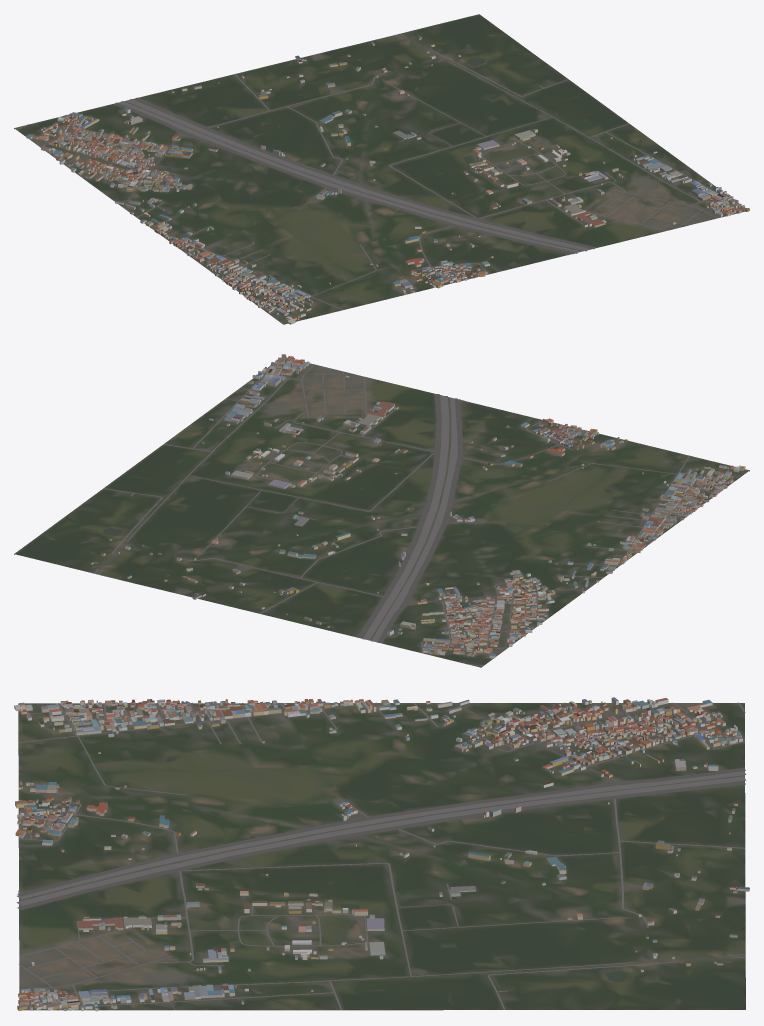
3 views of the same model, one above another, from view 1: azimuth 30°, elevation 25°; view 2: azimuth 150°, elevation 25°; view 3: azimuth 270°, elevation 25° (orthographic). The views are drawn at different scales.
Visible parts, largest first — view 1: ground, buildings, roads; view 2: ground, buildings, roads; view 3: ground, buildings, roads.
Part boxes in pixels (left/top/right/bottom): ground: left=14, top=14, right=745, bottom=324; buildings: left=26, top=36, right=749, bottom=324; roads: left=16, top=34, right=744, bottom=317; ground: left=14, top=359, right=749, bottom=667; buildings: left=90, top=354, right=745, bottom=658; roads: left=94, top=357, right=735, bottom=665; ground: left=18, top=703, right=745, bottom=1010; buildings: left=14, top=697, right=749, bottom=1011; roads: left=16, top=702, right=746, bottom=1010.
Bounding box in the file's own units: 1416 × 15.82 × 1420.
